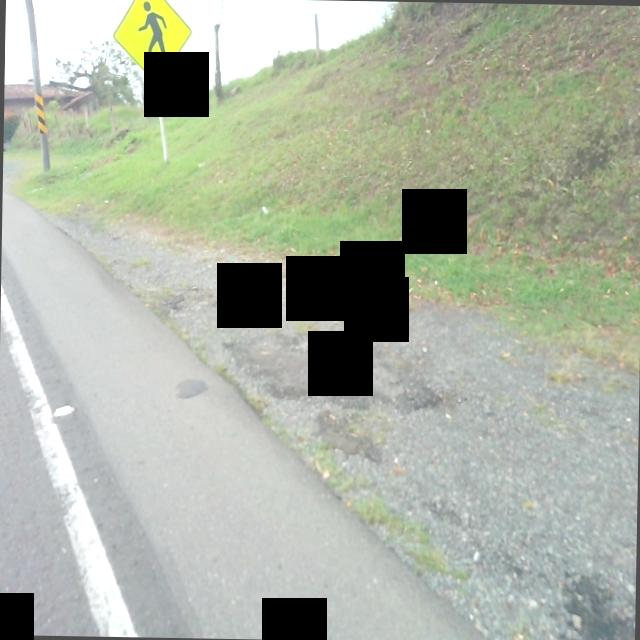DITCH: (2, 175, 640, 640)
